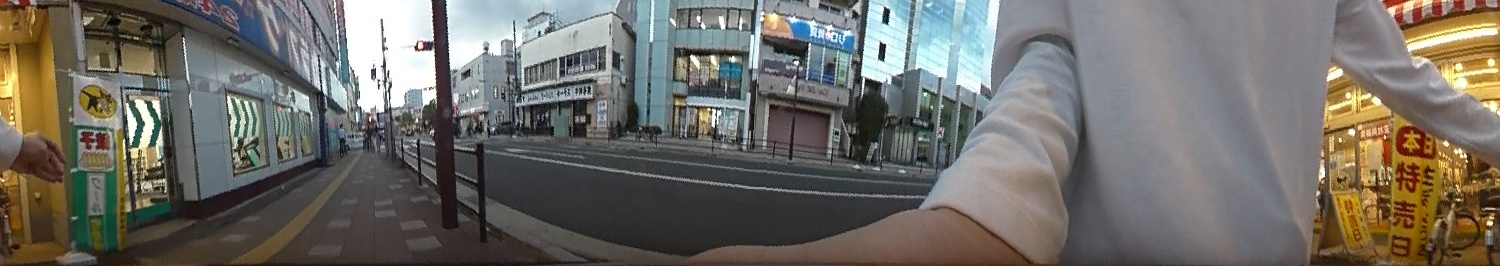difficult_person: (335, 121, 349, 155)
